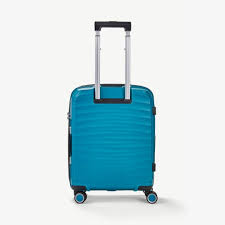suitcase: (64, 17, 162, 206)
